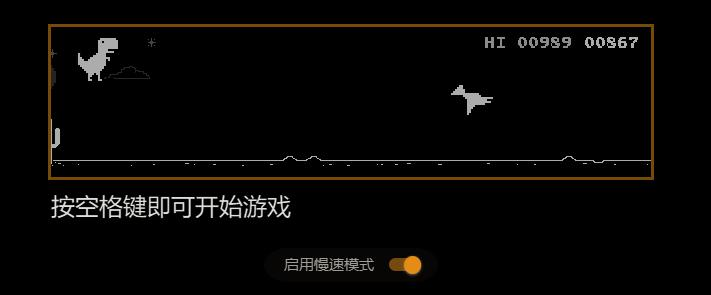bird: (451, 85, 494, 116)
dino: (76, 37, 118, 82)
